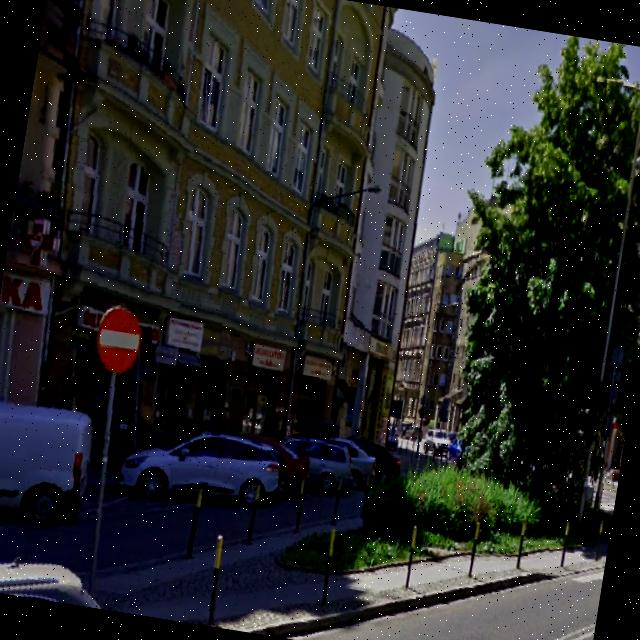Zakaz wjazdu: (94, 304, 144, 374)
